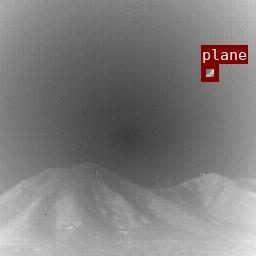plane: (201, 64, 218, 81)
